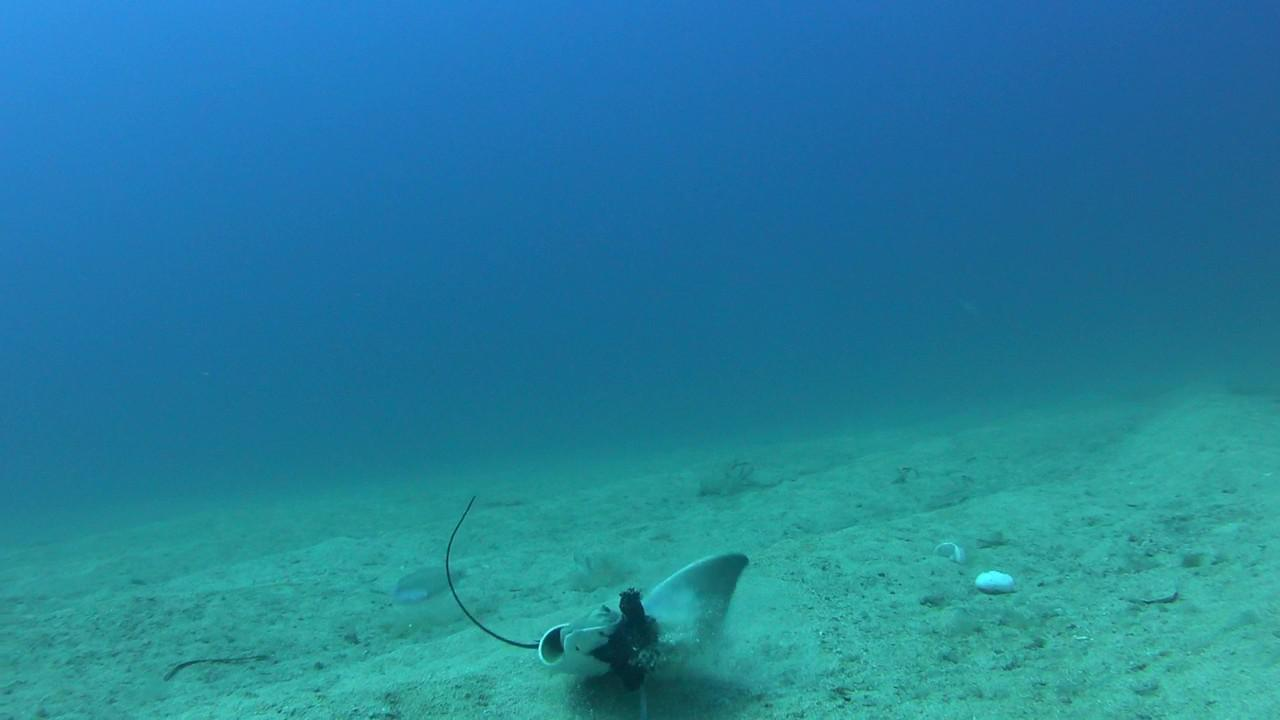myliobatis: (439, 487, 754, 681)
raor: (392, 560, 469, 610)
